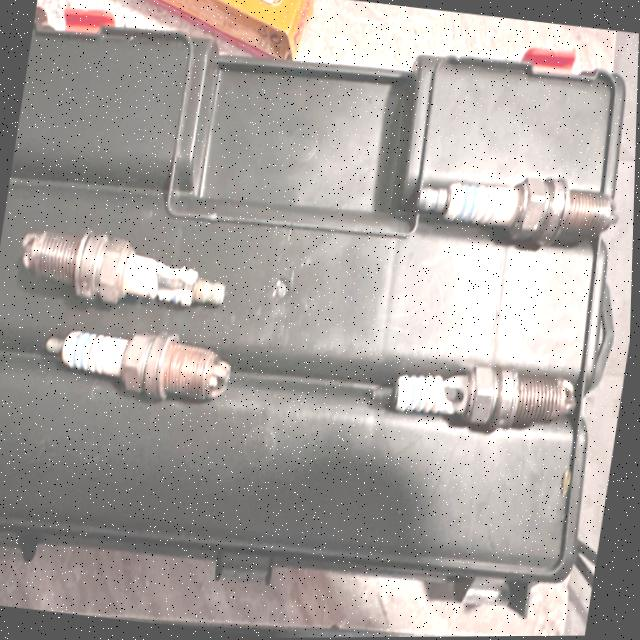damaged_spark-plug: (8, 210, 242, 327), (366, 334, 589, 448)
spark-plug: (30, 307, 251, 413), (409, 168, 629, 256)
